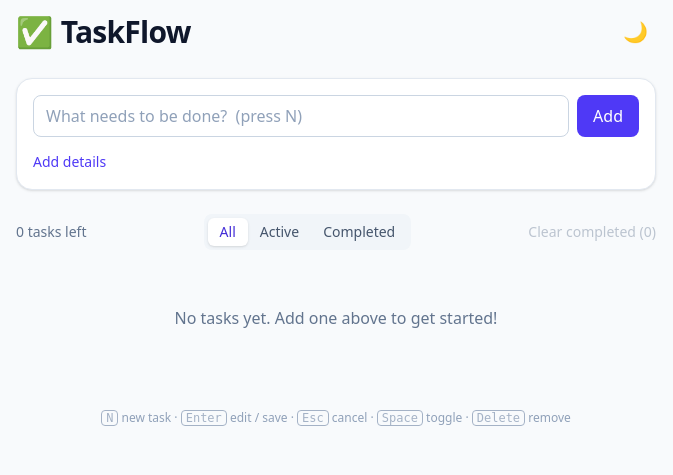
Test: TaskFlow app › validates empty titles
This screenshot has width=673, height=475.
Click the button "Add": (608, 116) [577,95,639,137]
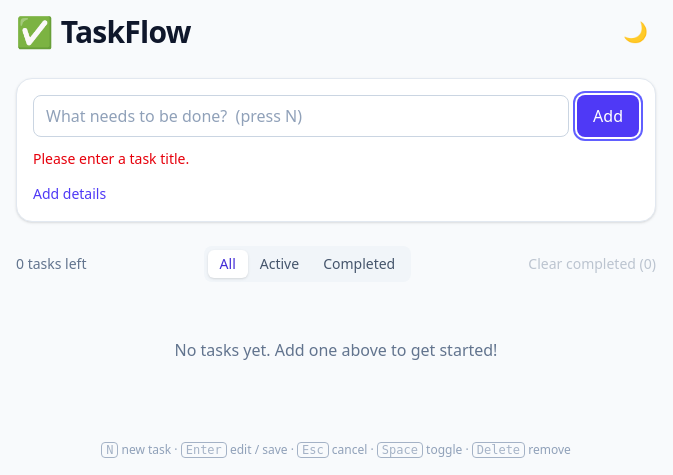
Expected: the message shows "Please enter a task title", [33,149,189,168]
